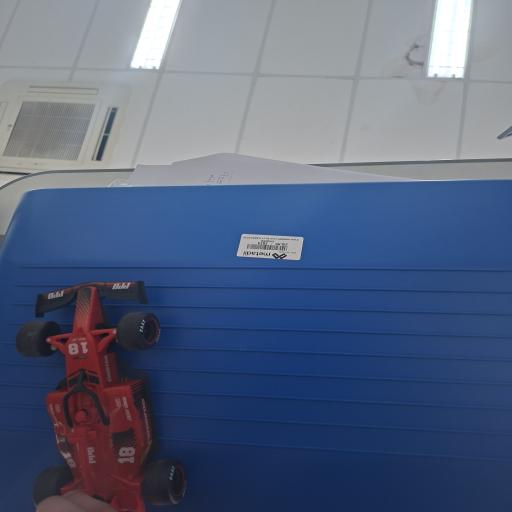carro: (16, 282, 185, 511)
